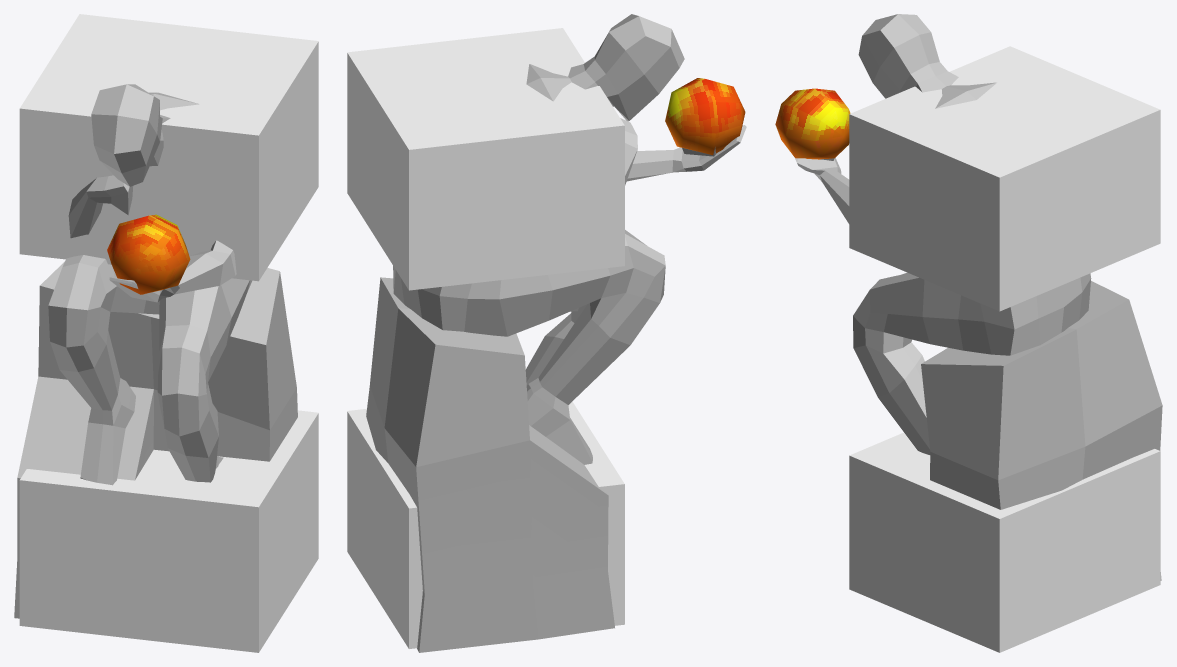
Rendered from Statue.fbx.
3 renders of one model, left to right at view 1: azimuth 30°, elevation 25°; view 2: azimuth 150°, elevation 25°; view 3: azimuth 270°, elevation 25°, orthographic. The views are drawn at different scales.
Visible parts, largest first — view 1: Statue, Cube, Cube (1), Sphere_8; view 2: Statue, Cube, Cube (1), Sphere_8; view 3: Cube, Statue, Cube (1), Sphere_8.
Boxes of the visible parts, x1,y1,x2,y2 form: Statue: (14, 84, 297, 618); Cube: (19, 14, 318, 281); Cube (1): (19, 410, 318, 652); Sphere_8: (107, 214, 190, 294); Statue: (366, 14, 746, 652); Cube: (347, 28, 624, 290); Cube (1): (347, 401, 624, 648); Sphere_8: (665, 78, 745, 155); Cube: (849, 46, 1160, 311); Statue: (794, 14, 1162, 580); Cube (1): (849, 432, 1160, 652); Sphere_8: (775, 88, 850, 159).
Size of the model in its own units: 4.43 by 7.9 by 5.24.
